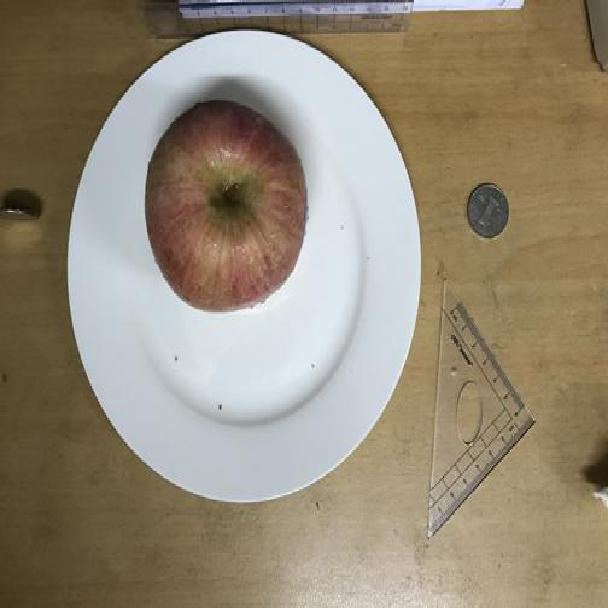apple: (143, 101, 309, 317)
